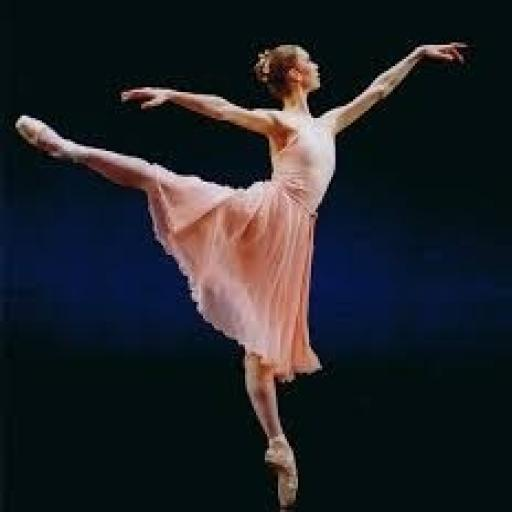dancing: (11, 36, 475, 510)
